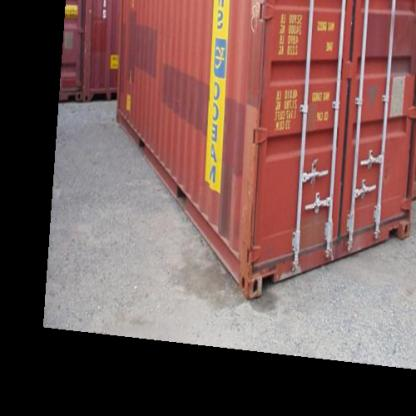Damage: (263, 207, 385, 279), (233, 143, 266, 295)
